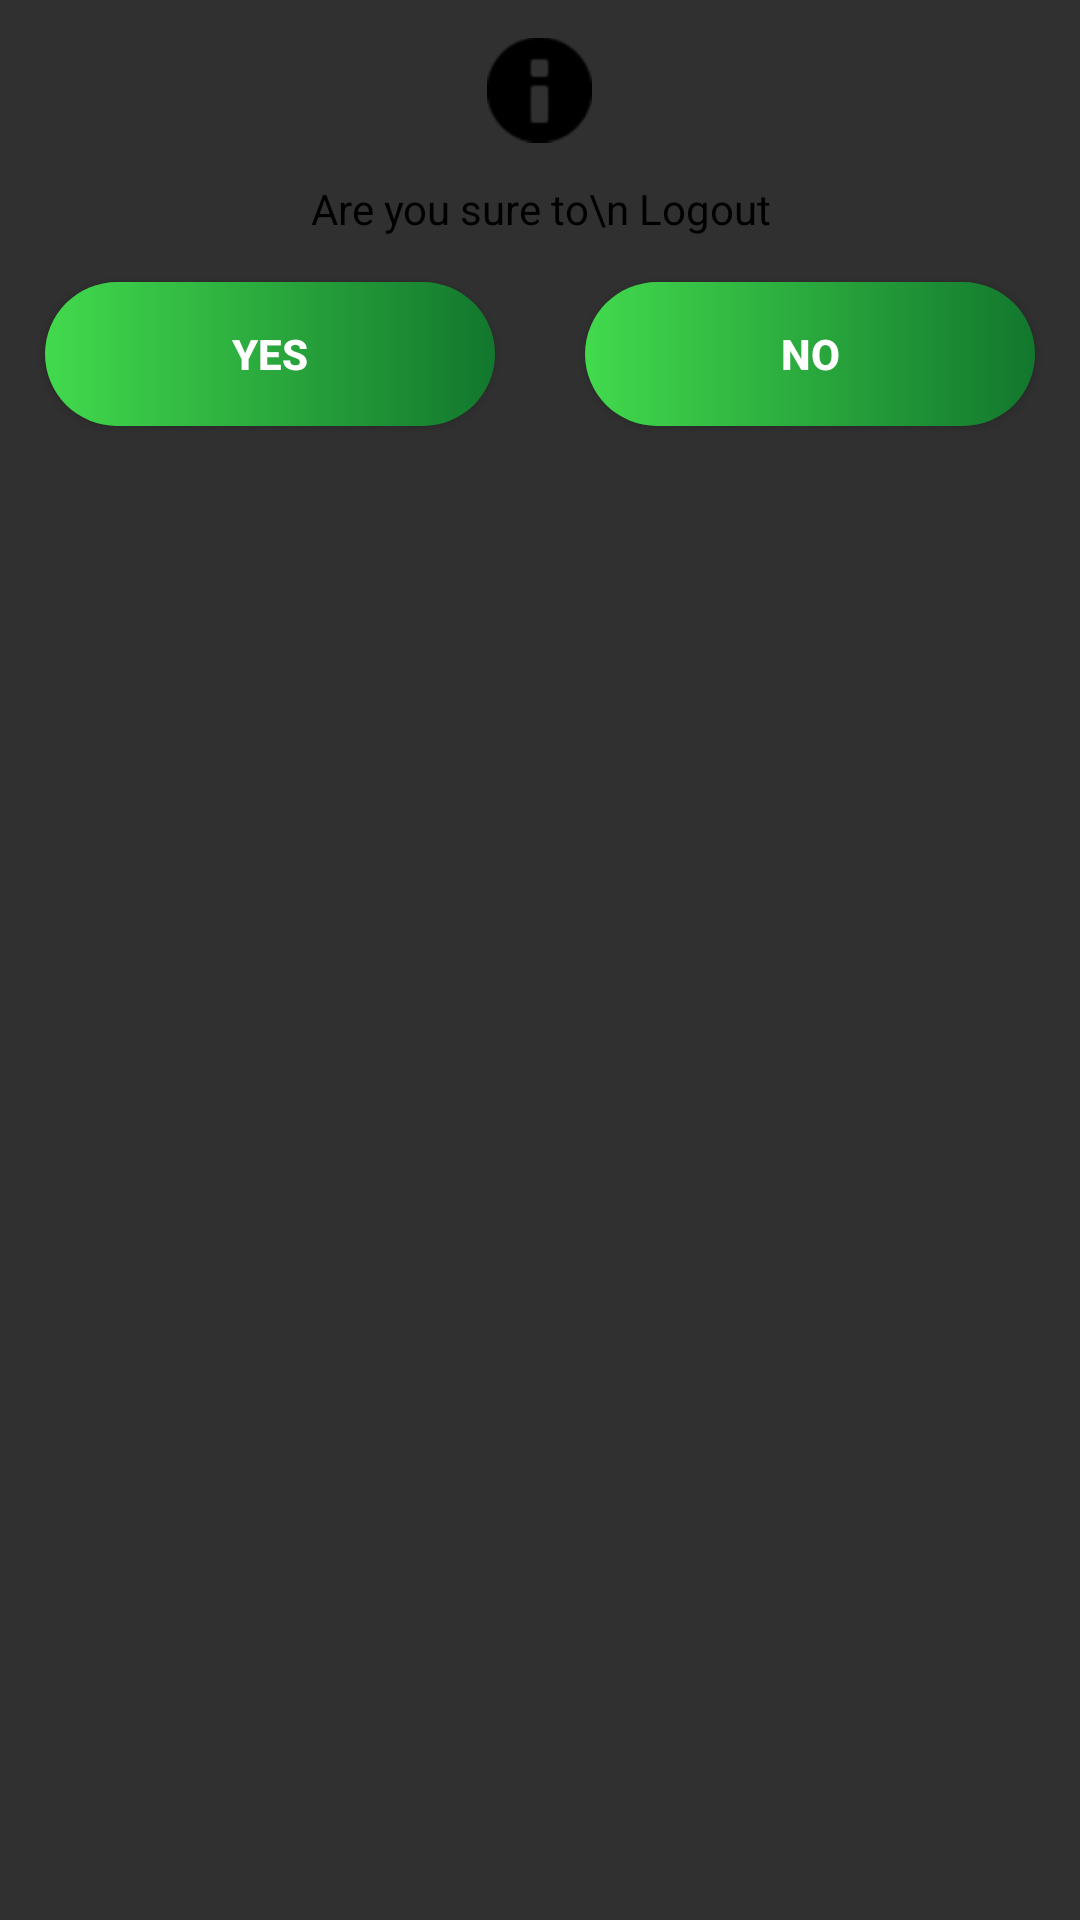

Icons on this 1080px×1920px Android screen, each with its box as (x1, y1, x2, y2):
info: (487, 38, 592, 143)
